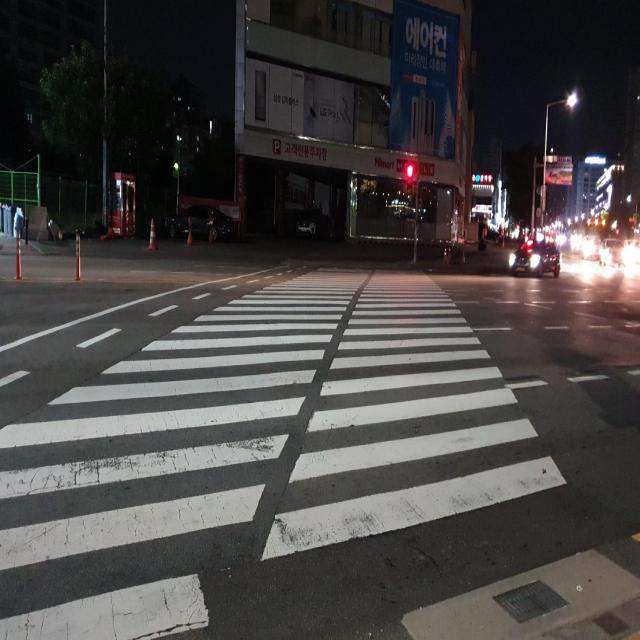빨간불: (403, 161, 417, 195)
횡단보도: (0, 262, 570, 640)
